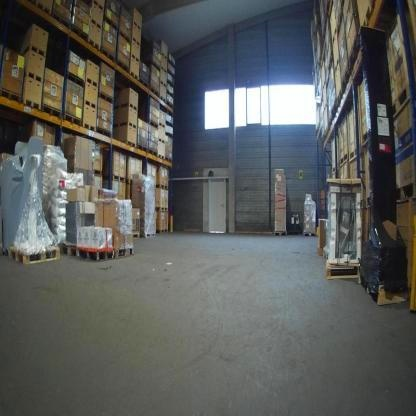pallets: (0, 102, 109, 136), (6, 240, 134, 265), (87, 62, 179, 95), (29, 0, 91, 46), (334, 129, 374, 172), (117, 136, 177, 162), (85, 39, 132, 66), (386, 84, 412, 122), (318, 261, 366, 279), (140, 226, 170, 241), (109, 172, 134, 188), (19, 45, 56, 55), (22, 69, 45, 85), (84, 0, 109, 14), (152, 182, 174, 195), (87, 19, 106, 33), (153, 203, 173, 215), (81, 96, 97, 111), (128, 34, 144, 48), (128, 50, 142, 64), (155, 79, 171, 90), (273, 229, 290, 239), (132, 19, 145, 30), (158, 51, 173, 59), (157, 66, 170, 75)
